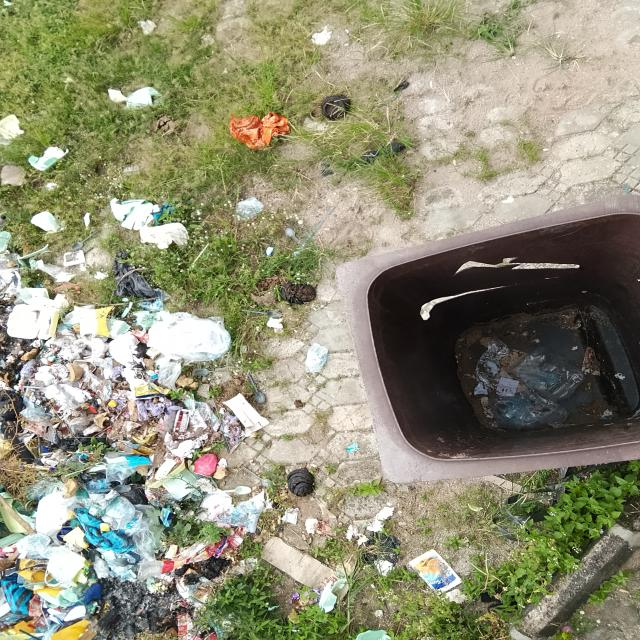empty: (329, 205, 640, 470)
